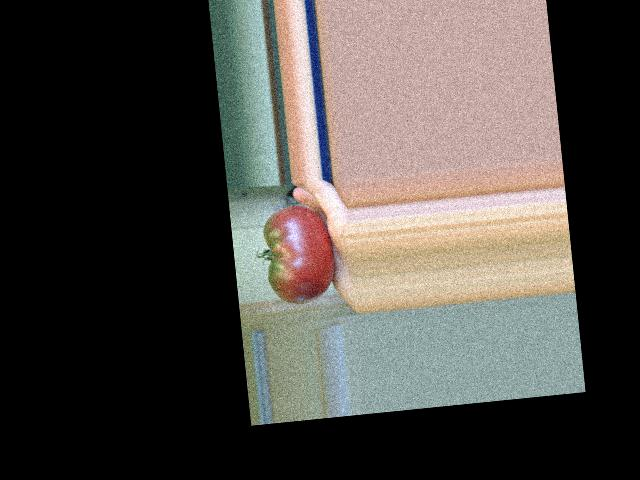tomato: (261, 202, 338, 307)
